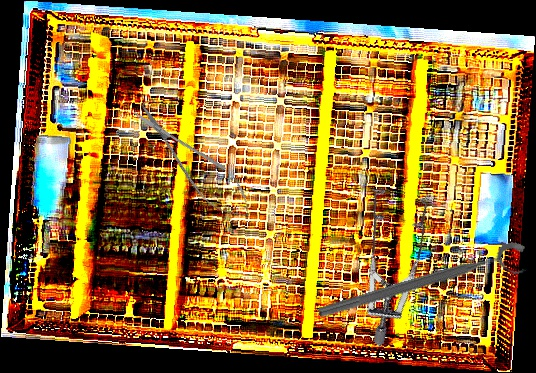Fixation Ring: (315, 239, 533, 335)
Micro Scissor: (124, 94, 262, 230)
Speculum: (297, 167, 476, 347)
